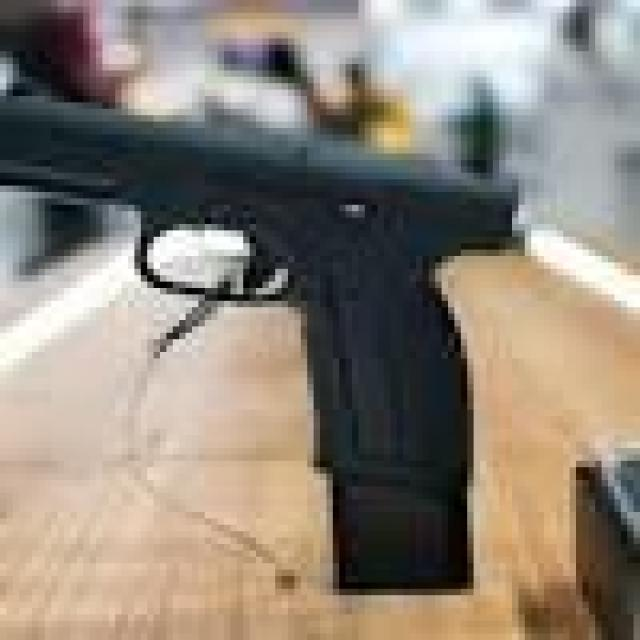Gun: (0, 77, 501, 627)
